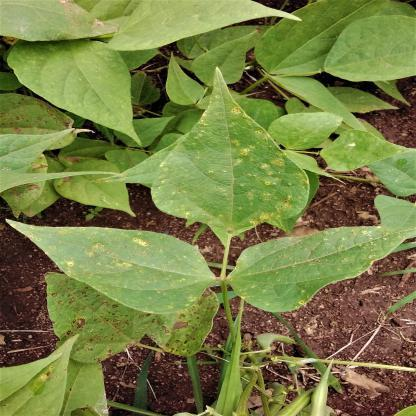Beans_Rust: (157, 81, 314, 235), (26, 224, 208, 314), (235, 226, 394, 313), (50, 263, 146, 360), (4, 0, 112, 40)
